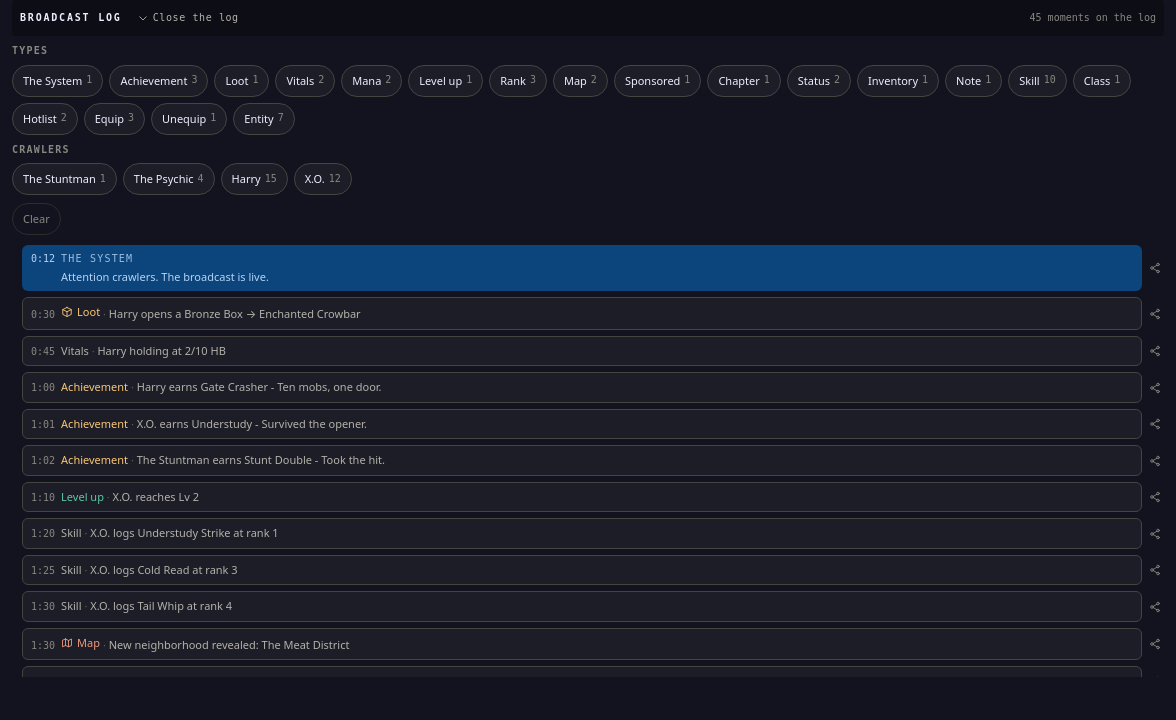
Scenario: EpisodeLog - filters › says so when a filter matches nothing, without emptying the log
Click the button "The System 1" at (58, 80), box left=12, top=64, right=103, bottom=96
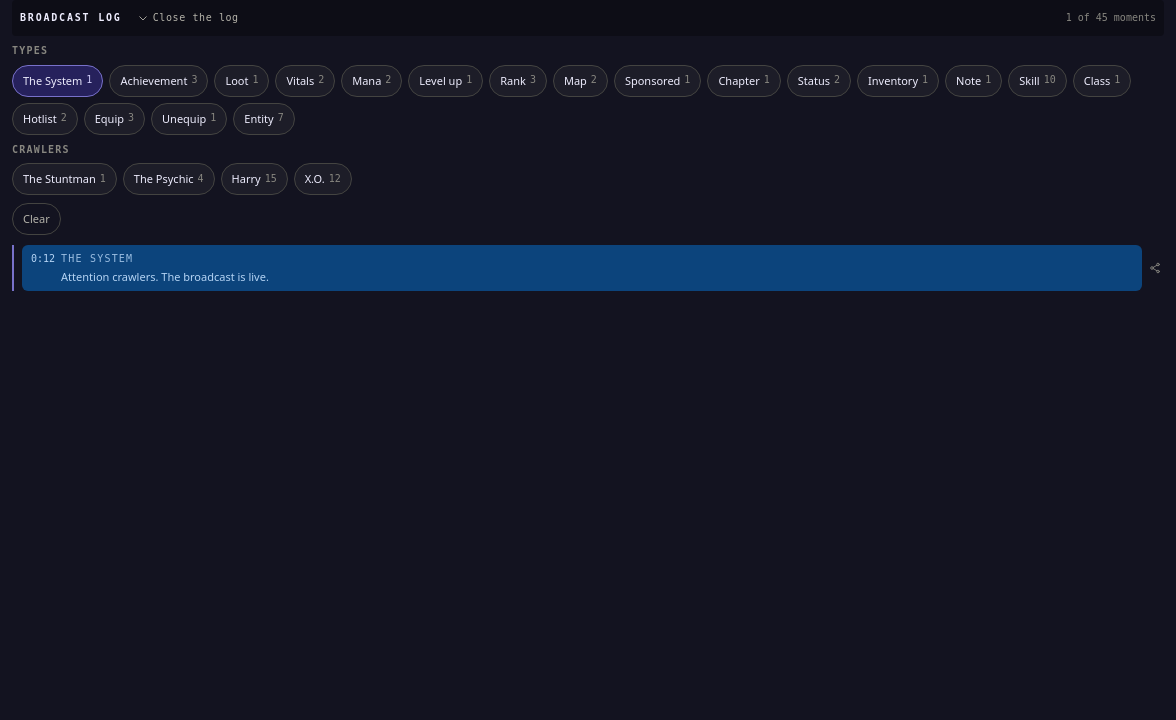
Click the button "Harry 15" at (254, 179), box left=221, top=163, right=288, bottom=195
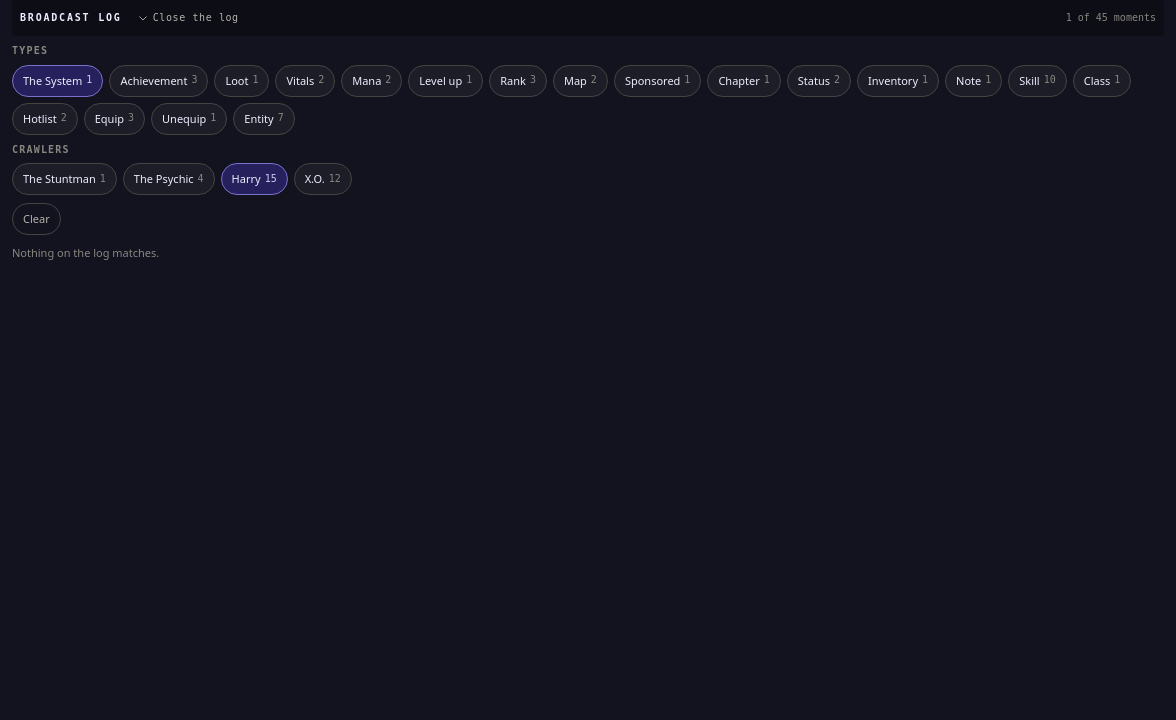
Check: the text with test id "log-empty" reads "Nothing on the log matches.", box left=12, top=245, right=159, bottom=260
Check: the list with test id "log-list" is gone
Check: no list items with test id "log-row" are shown
